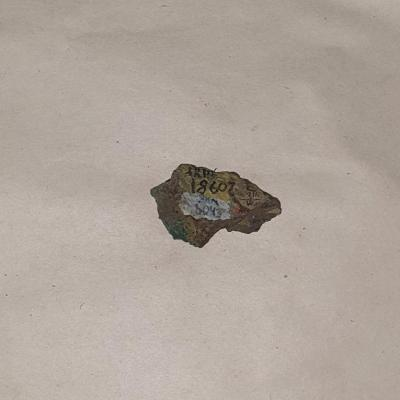mineralogy: (150, 164, 282, 250)
